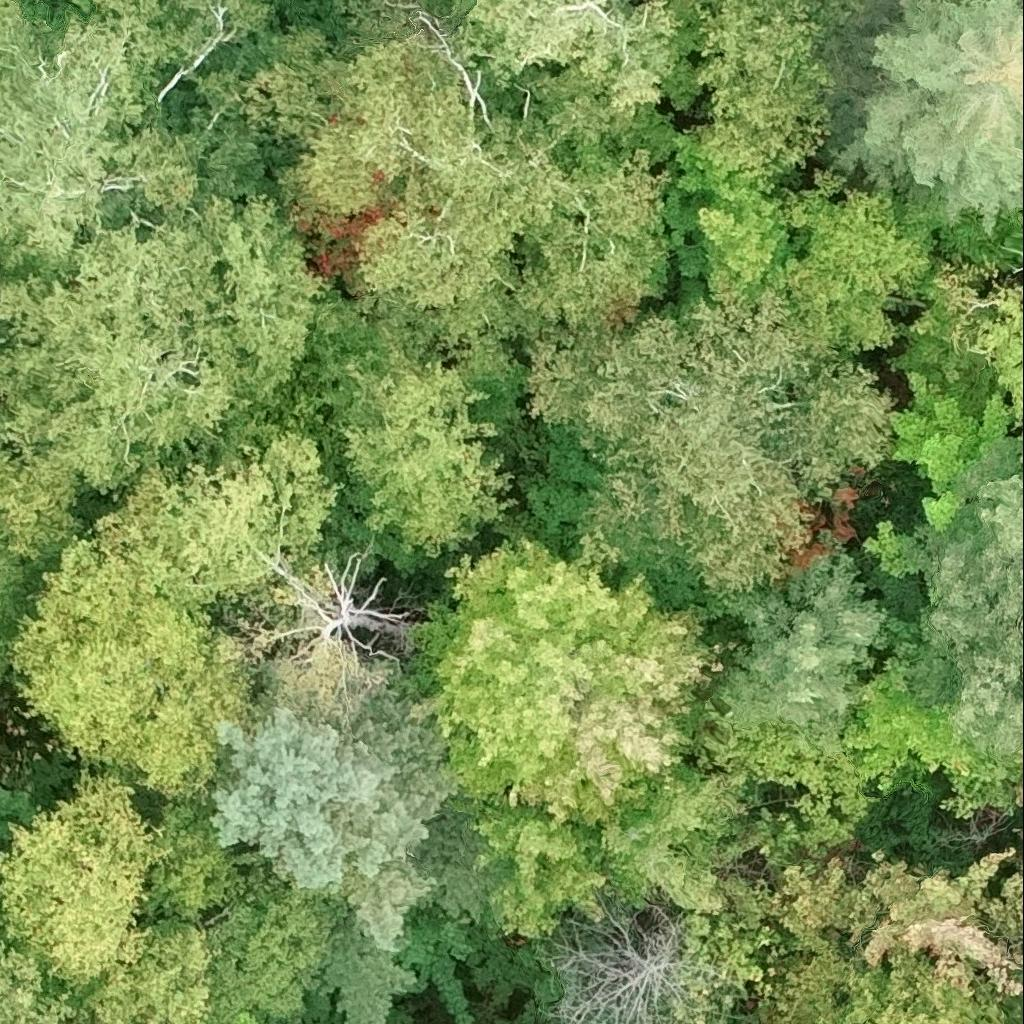crown: (395, 532, 723, 944), (528, 293, 890, 610), (0, 200, 324, 488), (211, 696, 479, 1023), (687, 607, 1022, 857), (0, 0, 278, 287), (301, 42, 558, 309), (14, 541, 256, 805), (0, 776, 212, 1023), (85, 434, 346, 617), (838, 0, 1023, 236), (333, 327, 516, 554), (780, 850, 1023, 997), (762, 171, 931, 365), (730, 553, 884, 740), (696, 0, 857, 170), (518, 151, 674, 324), (934, 460, 1023, 755), (204, 852, 352, 1023), (590, 759, 749, 910), (674, 126, 805, 309), (466, 0, 680, 112), (0, 437, 89, 687), (661, 865, 800, 1023), (888, 373, 1023, 535), (758, 953, 1016, 1023), (125, 790, 256, 922), (262, 553, 401, 671), (552, 907, 688, 1023), (0, 941, 72, 1023), (976, 290, 1023, 414), (17, 0, 98, 26), (0, 387, 34, 445), (0, 269, 54, 296), (0, 246, 32, 274), (0, 319, 12, 355), (451, 0, 478, 16), (1016, 0, 1023, 10), (939, 0, 972, 2), (153, 1020, 170, 1023)
